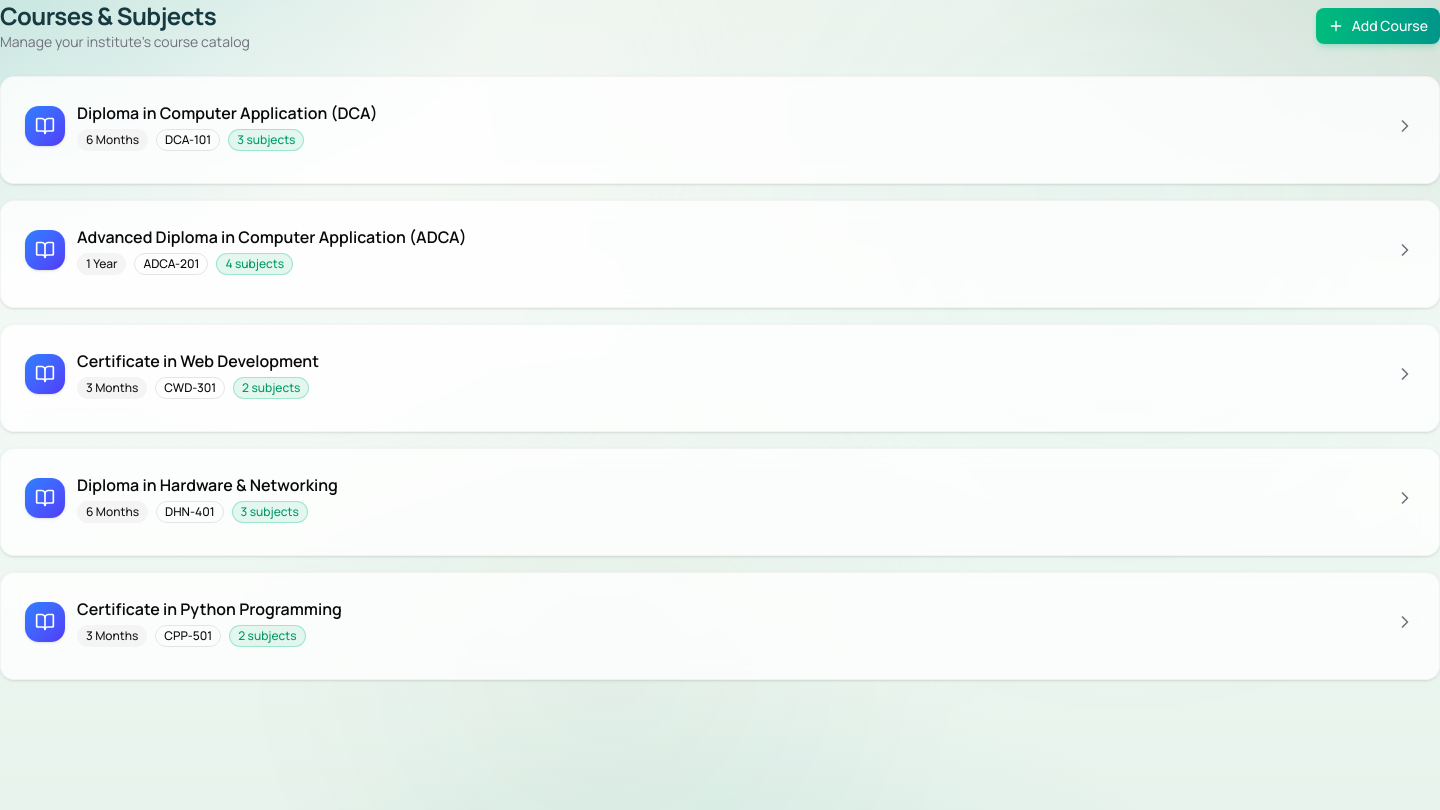
Test: AdminCourses Integration Tests › should display validation errors when creating an empty course (Negative Test)
Expected: the text "Diploma in Computer Application (DCA)" is shown, [77,101,378,125]
// Click Add Course to open dialog
Click the button "Add Course": x=1378, y=26 [1316,8,1439,44]
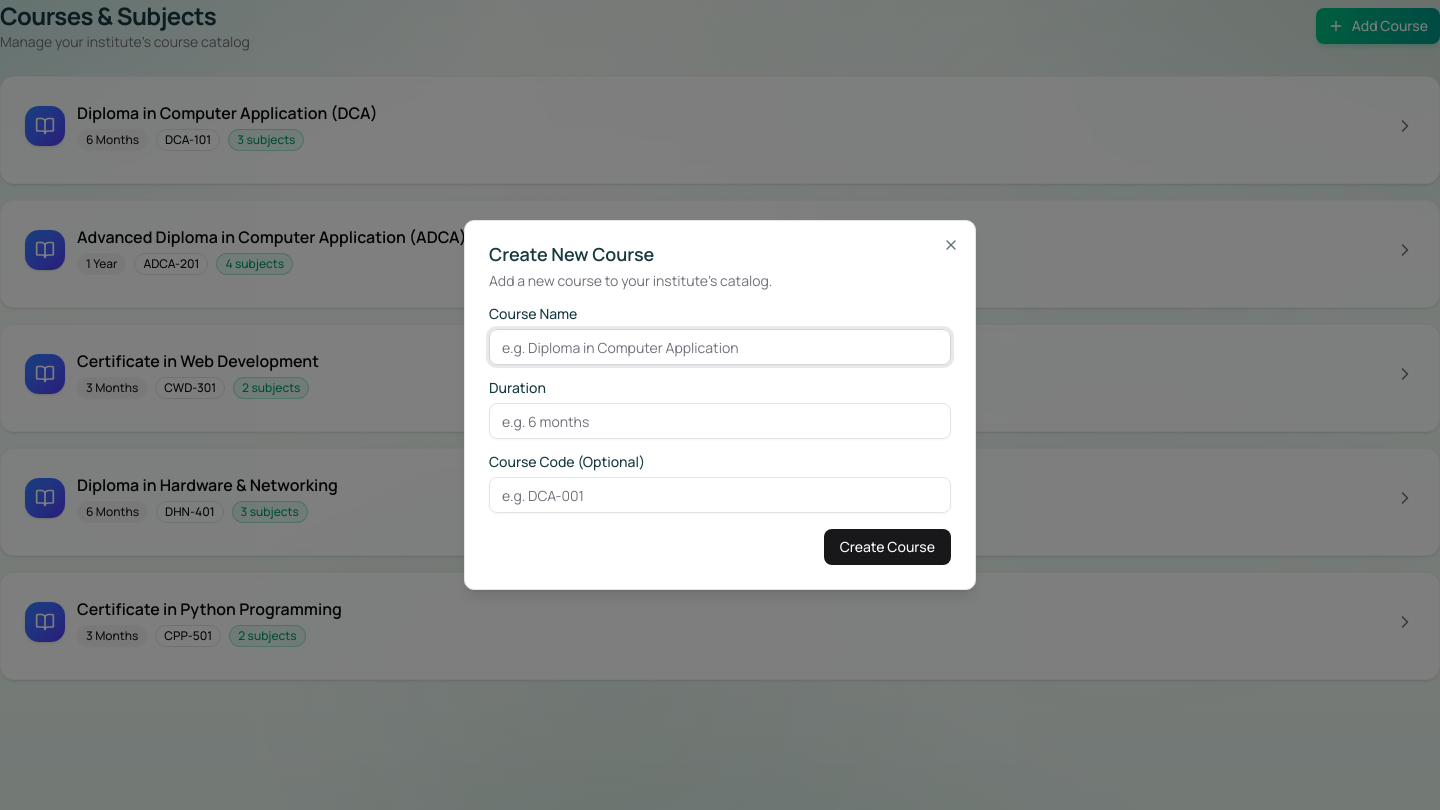
// Press Submit immediately
Click the button "Create Course": x=887, y=547 [824,529,951,565]
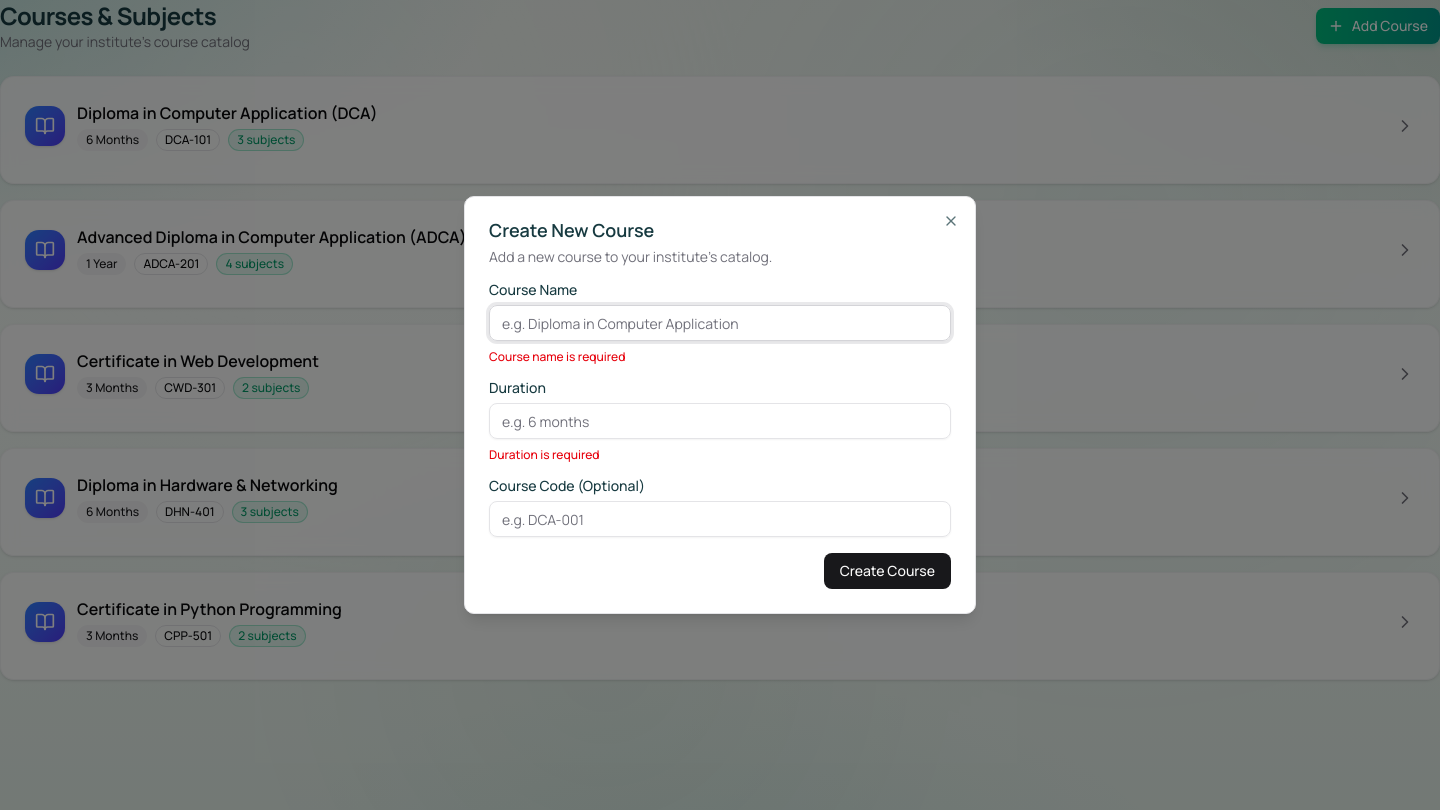
Expected: the text "Course name is required" is shown, [489,348,625,365]
Expected: the text "Duration is required" is shown, [489,446,600,463]
